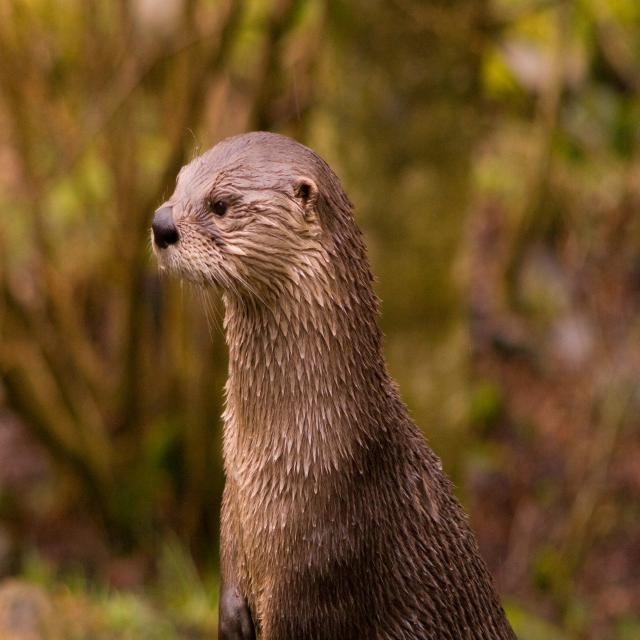otter: (154, 133, 516, 640)
